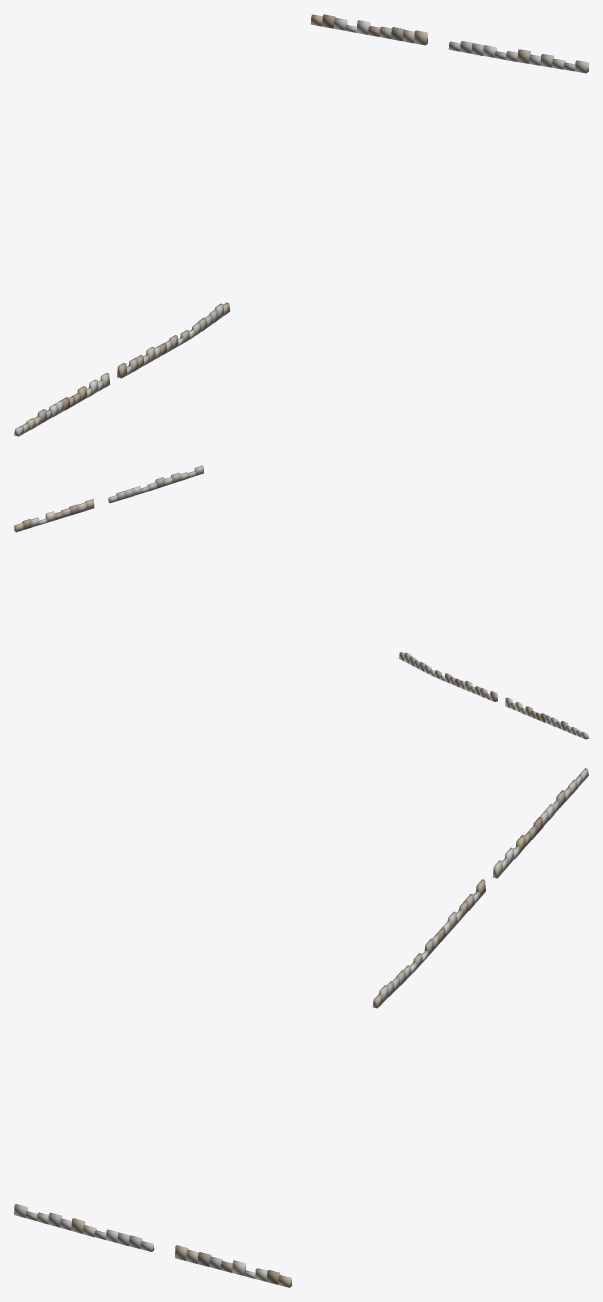
File: farm_-2_-1_collision.glb
3 renders of one model, top to bottom at view 1: azimuth 90°, elevation 25°; view 2: azimuth 150°, elevation 25°; view 3: azimuth 270°, elevation 25°, orthographic. The views are drawn at different scales.
Parts seen in each view (by area): view 1: geometry_0; view 2: geometry_0; view 3: geometry_0.
Part boxes in pixels (x1,y1,x2,y2): geometry_0: (14,14,588,436); geometry_0: (14,465,588,739); geometry_0: (14,768,588,1287).
Size of the model in its own units: 134 by 8.2 by 70.32.
